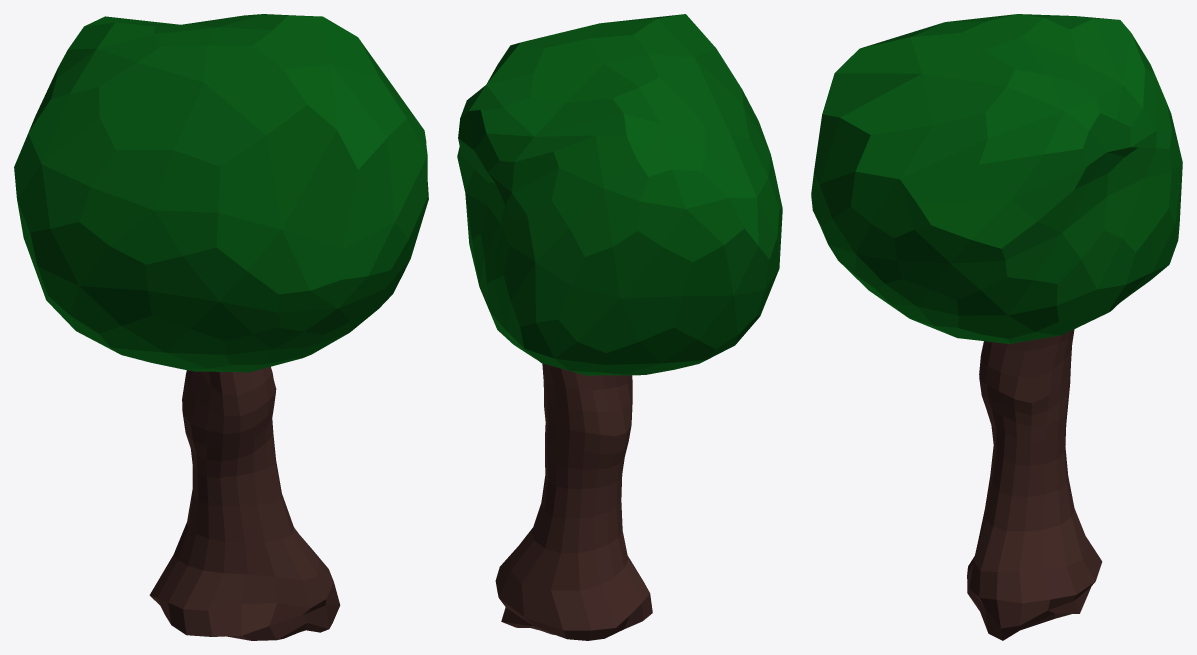
File: Tree.fbx
3 views of the same model, side by side, from view 1: azimuth 30°, elevation 25°; view 2: azimuth 150°, elevation 25°; view 3: azimuth 270°, elevation 25° (orthographic). The views are drawn at different scales.
Parts seen in each view (by area): view 1: Icosphere, Cube; view 2: Icosphere, Cube; view 3: Icosphere, Cube.
Part boxes in pixels (x1,y1,x2,y2): Icosphere: (14, 14, 428, 372); Cube: (149, 366, 340, 640); Icosphere: (457, 14, 782, 375); Cube: (495, 363, 652, 640); Icosphere: (811, 14, 1182, 343); Cube: (967, 329, 1102, 640).
Bounding box in the file's own units: 846 × 1423 × 852.
